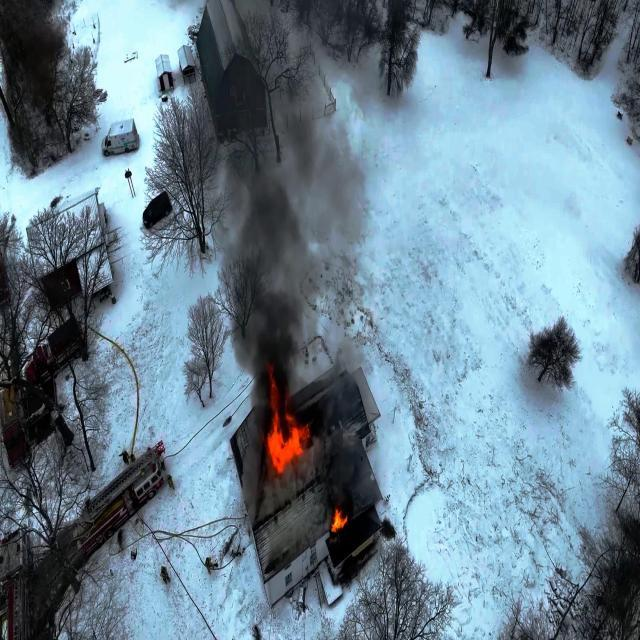Fire: (262, 374, 302, 469), (332, 498, 346, 536)
